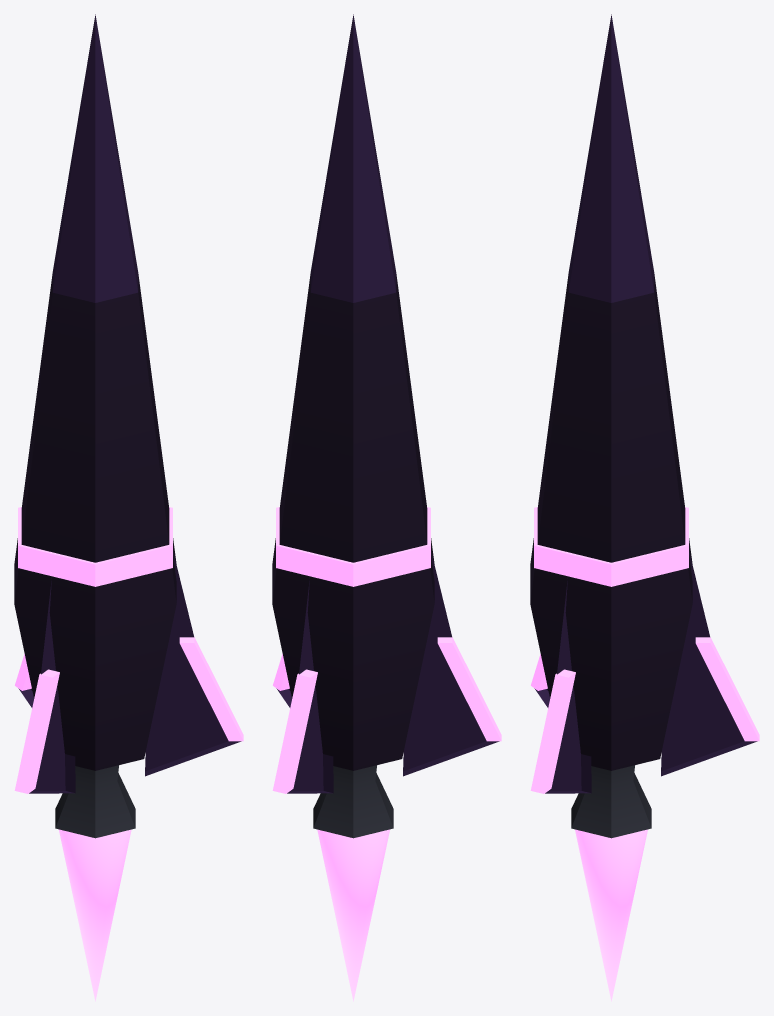
The model's file is Rocket_34_ObsidianFang.fbx.
3 renders of one model, left to right at view 1: azimuth 30°, elevation 25°; view 2: azimuth 150°, elevation 25°; view 3: azimuth 270°, elevation 25°, orthographic.
Parts seen in each view (by area): view 1: R34_Body, R34_Nose, R34_Fin_3, R34_Flame_1, R34_Nozzle_1, R34_Band_1, R34_Fin_2, R34_FinGlow_2, R34_FinGlow_3; view 2: R34_Body, R34_Nose, R34_Fin_2, R34_Flame_1, R34_Nozzle_1, R34_Band_1, R34_Fin_1, R34_FinGlow_1, R34_FinGlow_2; view 3: R34_Body, R34_Nose, R34_Fin_1, R34_Flame_1, R34_Nozzle_1, R34_Band_1, R34_Fin_3, R34_FinGlow_3, R34_FinGlow_1.
Part boxes in pixels (left/top/right/bottom): R34_Body: left=14, top=274, right=176, bottom=770; R34_Nose: left=52, top=14, right=138, bottom=302; R34_Fin_3: left=145, top=551, right=241, bottom=776; R34_Flame_1: left=58, top=829, right=131, bottom=1001; R34_Nozzle_1: left=55, top=765, right=135, bottom=838; R34_Band_1: left=18, top=507, right=172, bottom=586; R34_Fin_2: left=29, top=578, right=75, bottom=793; R34_FinGlow_2: left=14, top=669, right=59, bottom=793; R34_FinGlow_3: left=179, top=637, right=243, bottom=741; R34_Body: left=272, top=274, right=434, bottom=770; R34_Nose: left=310, top=14, right=396, bottom=302; R34_Fin_2: left=403, top=551, right=499, bottom=776; R34_Flame_1: left=317, top=829, right=389, bottom=1001; R34_Nozzle_1: left=313, top=765, right=393, bottom=838; R34_Band_1: left=276, top=507, right=430, bottom=586; R34_Fin_1: left=287, top=578, right=333, bottom=793; R34_FinGlow_1: left=272, top=669, right=317, bottom=793; R34_FinGlow_2: left=437, top=637, right=501, bottom=741; R34_Body: left=530, top=274, right=692, bottom=770; R34_Nose: left=568, top=14, right=654, bottom=302; R34_Fin_1: left=661, top=551, right=757, bottom=776; R34_Flame_1: left=575, top=829, right=647, bottom=1001; R34_Nozzle_1: left=571, top=765, right=651, bottom=838; R34_Band_1: left=534, top=507, right=688, bottom=586; R34_Fin_3: left=545, top=578, right=591, bottom=793; R34_FinGlow_3: left=530, top=669, right=575, bottom=793; R34_FinGlow_1: left=695, top=637, right=759, bottom=741.
Size of the model in its own units: 2.68 by 11.05 by 2.32.
